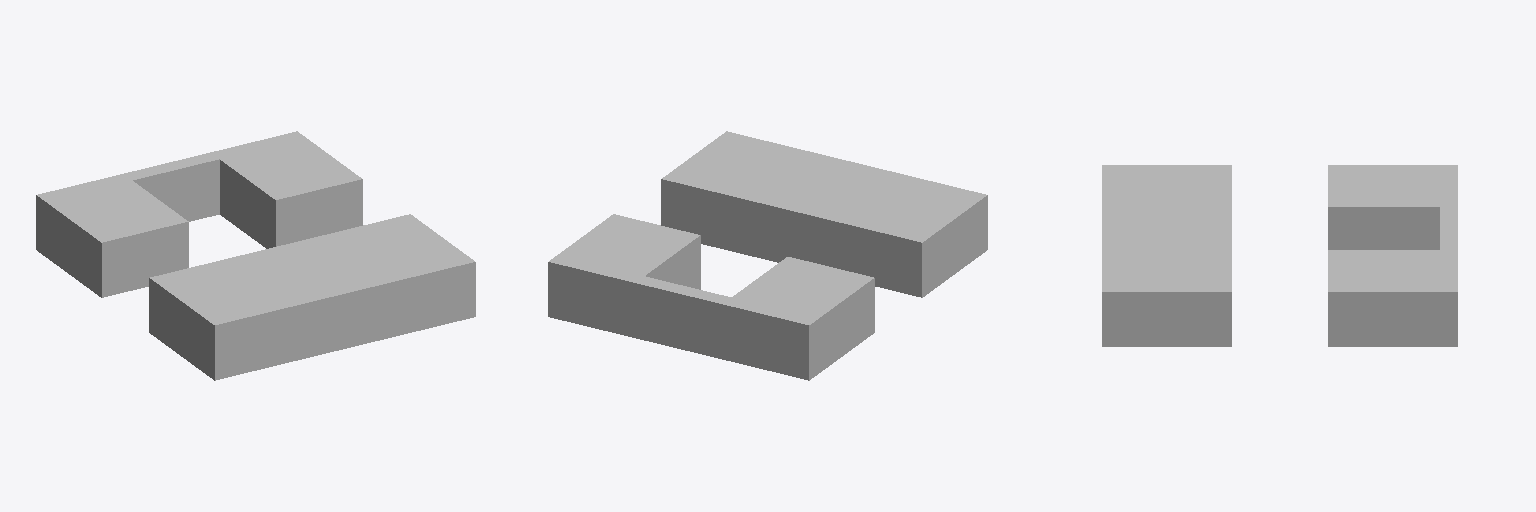
Rendered from BeginningMaze.obj.
3 views of the same model, side by side, from view 1: azimuth 30°, elevation 25°; view 2: azimuth 150°, elevation 25°; view 3: azimuth 270°, elevation 25° (orthographic).
Parts seen in each view (by area): view 1: Cube; view 2: Cube; view 3: Cube.
Boxes of the visible parts, box(x1,y1,x2,y2) form: Cube: box(36, 131, 475, 380); Cube: box(548, 131, 987, 380); Cube: box(1102, 165, 1457, 346).
Size of the model in its own units: 32.47 by 6.56 by 38.41.